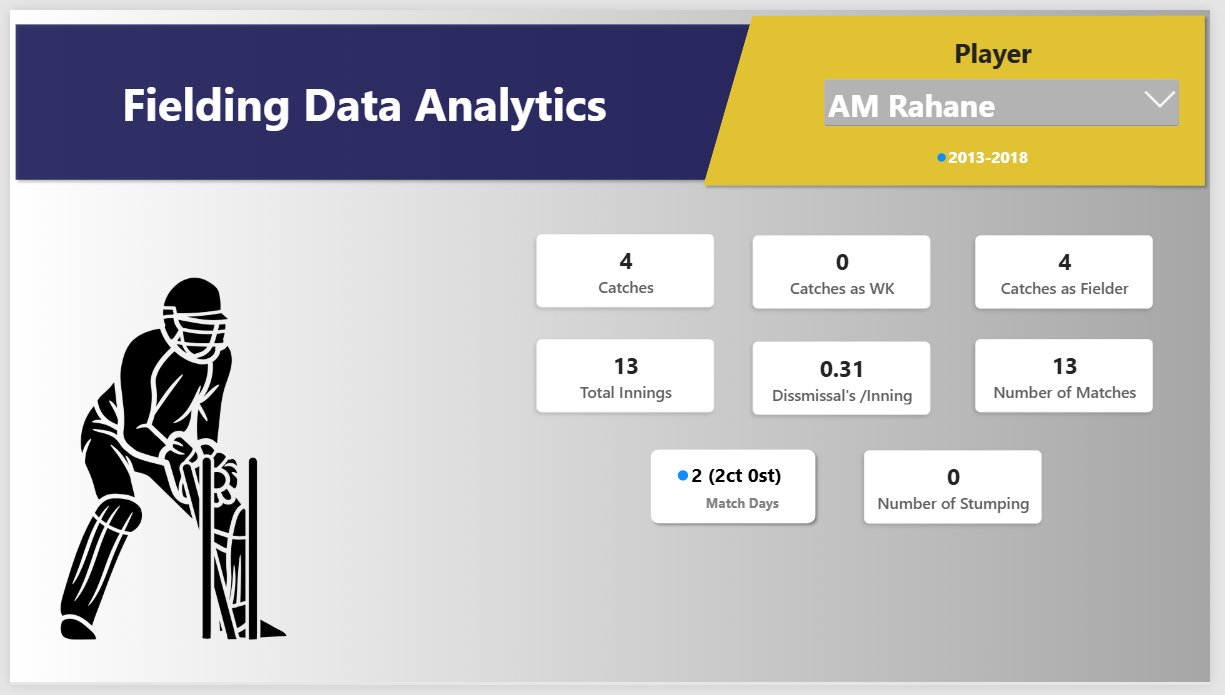

The page's visual inventory and layout, read from the dashboard file:
{"tool":"powerbi","page":{"name":"Fielding","canvas":[1920,1080],"ordinal":2},"visuals":[{"type":"group","id":"g1","title":"Group 1","box":[0,0,1920,290],"z":0},{"type":"shape","box":[0,13.3,1226.7,266.7],"z":0,"group":"g1"},{"type":"shape","box":[1100,0,818,290],"z":1000,"group":"g1"},{"type":"slicer","fields":{"Values":["Fielding.Player"]},"box":[1297.5,105,577.5,105],"z":1000},{"type":"shape","box":[1821.4,0,98.6,290],"z":2000,"group":"g1"},{"type":"textbox","box":[1430,37.5,285,67.5],"z":2000},{"type":"textbox","box":[113.3,100,905,117.5],"z":3000},{"type":"treemap","fields":{"Group":["Fielding.Span"]},"box":[1430,200,256.2,55],"z":4000},{"type":"cardVisual","fields":{"Data":["Sum(Fielding.Ct)"]},"box":[831.9,347.9,305.5,138],"z":5000},{"type":"cardVisual","fields":{"Data":["Sum(Fielding.St)"]},"box":[1356.4,693.9,305.5,138],"z":6000},{"type":"cardVisual","fields":{"Data":["Sum(Fielding.Mat)"]},"box":[1533.1,515.3,305.5,138],"z":7000},{"type":"cardVisual","fields":{"Data":["Sum(Fielding.Inns)"]},"box":[831.9,515.3,305.5,138],"z":8000},{"type":"cardVisual","fields":{"Data":["Sum(Fielding.D/I)"]},"box":[1177.9,520.9,305.5,138],"z":9000},{"type":"cardVisual","fields":{"Data":["Sum(Fielding.Ct Wk)"]},"box":[1177.9,349.7,305.5,138],"z":11000},{"type":"cardVisual","fields":{"Data":["Sum(Fielding.Ct Fi)"]},"box":[1533.1,349.7,305.5,138],"z":14000},{"type":"shape","box":[1016,693.9,281.6,136.2],"z":17000,"group":"g2"},{"type":"treemap","fields":{"Group":["Fielding.MD"]},"box":[1047.3,706.8,250.3,68.1],"z":18000,"group":"g2"},{"type":"textbox","box":[1076.7,774.9,191.4,42.3],"z":19000,"group":"g2"},{"type":"group","id":"g2","title":"Group 2","box":[1016,693.9,281.6,136.2],"z":19001}]}

Visuals, with their boxes in screenshot pixels (x1, y1, x2, y2), scaled from the page's 1920x1080 canvas onto the 1225x695 screenshot:
"Group 1" group: {"x1": 0, "y1": 0, "x2": 1224, "y2": 187}
shape: {"x1": 0, "y1": 9, "x2": 783, "y2": 180}
shape: {"x1": 702, "y1": 0, "x2": 1224, "y2": 187}
slicer - Fielding.Player: {"x1": 828, "y1": 68, "x2": 1196, "y2": 135}
shape: {"x1": 1162, "y1": 0, "x2": 1224, "y2": 187}
textbox: {"x1": 912, "y1": 24, "x2": 1094, "y2": 68}
textbox: {"x1": 72, "y1": 64, "x2": 650, "y2": 140}
treemap - Fielding.Span: {"x1": 912, "y1": 129, "x2": 1076, "y2": 164}
cardVisual - Sum(Fielding.Ct): {"x1": 531, "y1": 224, "x2": 726, "y2": 313}
cardVisual - Sum(Fielding.St): {"x1": 865, "y1": 447, "x2": 1060, "y2": 535}
cardVisual - Sum(Fielding.Mat): {"x1": 978, "y1": 332, "x2": 1173, "y2": 420}
cardVisual - Sum(Fielding.Inns): {"x1": 531, "y1": 332, "x2": 726, "y2": 420}
cardVisual - Sum(Fielding.D/I): {"x1": 752, "y1": 335, "x2": 946, "y2": 424}
cardVisual - Sum(Fielding.Ct Wk): {"x1": 752, "y1": 225, "x2": 946, "y2": 314}
cardVisual - Sum(Fielding.Ct Fi): {"x1": 978, "y1": 225, "x2": 1173, "y2": 314}
shape: {"x1": 648, "y1": 447, "x2": 828, "y2": 534}
treemap - Fielding.MD: {"x1": 668, "y1": 455, "x2": 828, "y2": 499}
textbox: {"x1": 687, "y1": 499, "x2": 809, "y2": 526}
"Group 2" group: {"x1": 648, "y1": 447, "x2": 828, "y2": 534}
